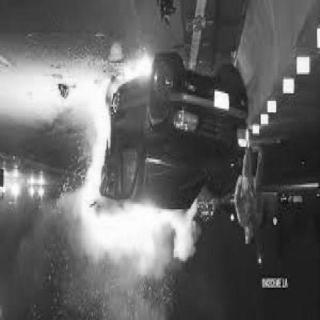Fire: (57, 54, 201, 274)
other: (26, 184, 44, 202), (1, 183, 19, 199), (213, 93, 229, 109), (296, 59, 310, 76), (238, 137, 250, 150), (282, 82, 294, 94), (259, 114, 267, 126), (252, 126, 260, 136), (267, 103, 275, 113)
